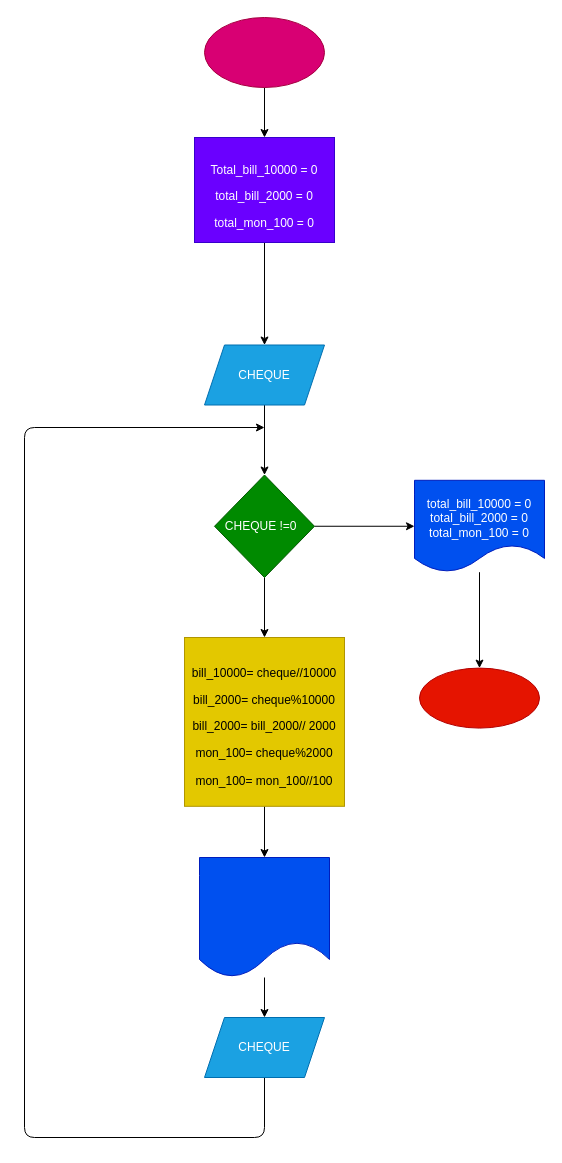
The diagram is 562 pixels wide and 1163 high, and some of its shapes have lost their labels. Each missing label, with the centre of its shape:
"CHEQUE bill_10000 bill_2000 mon_100" belongs at [264,917].
"FIN" belongs at [479,697].
"INICIO" belongs at [264,52].
